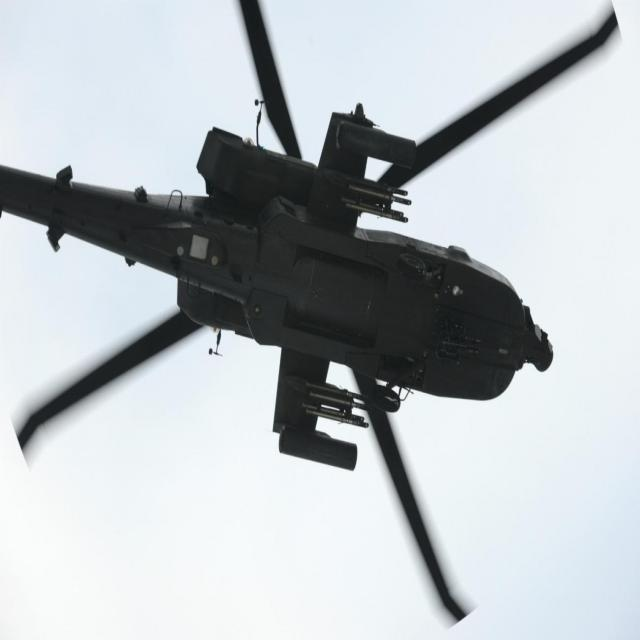MIL_HELO: (22, 45, 515, 599)
